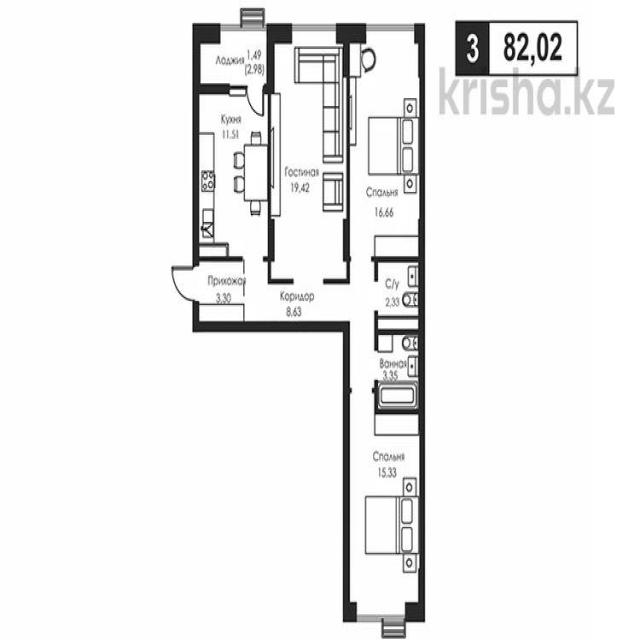balcony: (198, 31, 271, 91)
bathroom: (378, 336, 419, 418), (376, 261, 419, 330)
hallway: (199, 260, 269, 326), (272, 286, 371, 322)
kitchen: (198, 93, 271, 257)
living_room: (275, 37, 347, 279), (351, 43, 420, 259), (346, 415, 418, 608)
